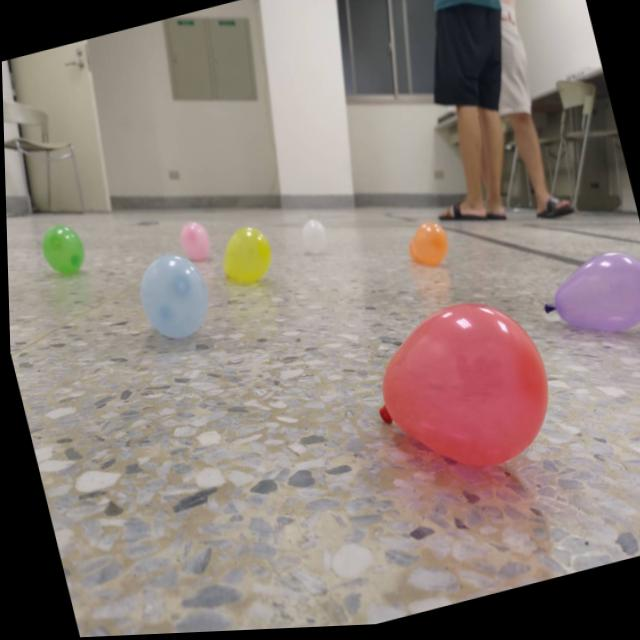other: (532, 247, 640, 353), (130, 248, 215, 346), (212, 223, 276, 291), (34, 218, 87, 283), (401, 220, 452, 276), (175, 219, 212, 267), (295, 218, 329, 260)
red: (355, 288, 563, 495)
